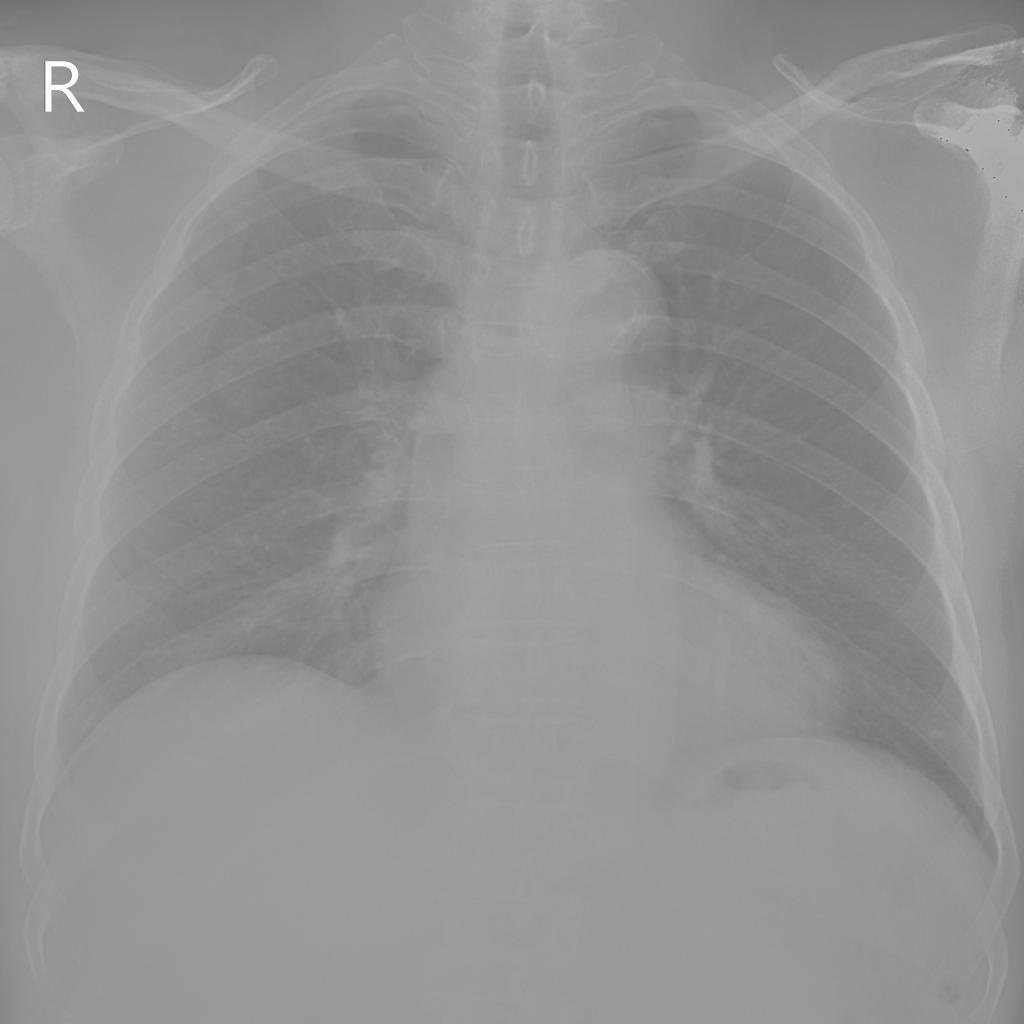Nodule: (927, 728, 951, 739)
